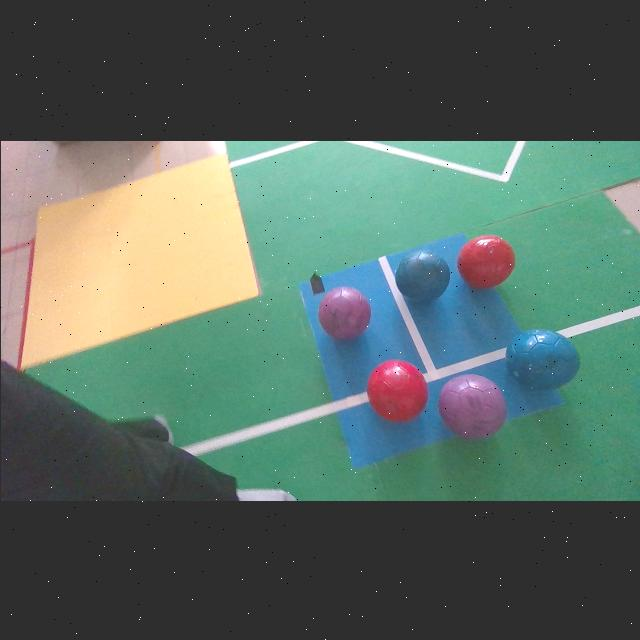B: (505, 328, 578, 387), (394, 250, 450, 302)
P: (437, 373, 505, 438), (318, 286, 369, 339)
R: (366, 359, 427, 421), (456, 233, 514, 287)
